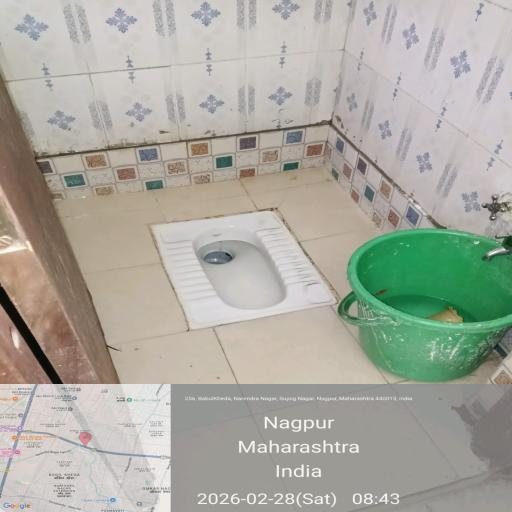clean_floor: (30, 176, 512, 512), (52, 21, 512, 149)
clean_indian: (148, 186, 326, 332)
